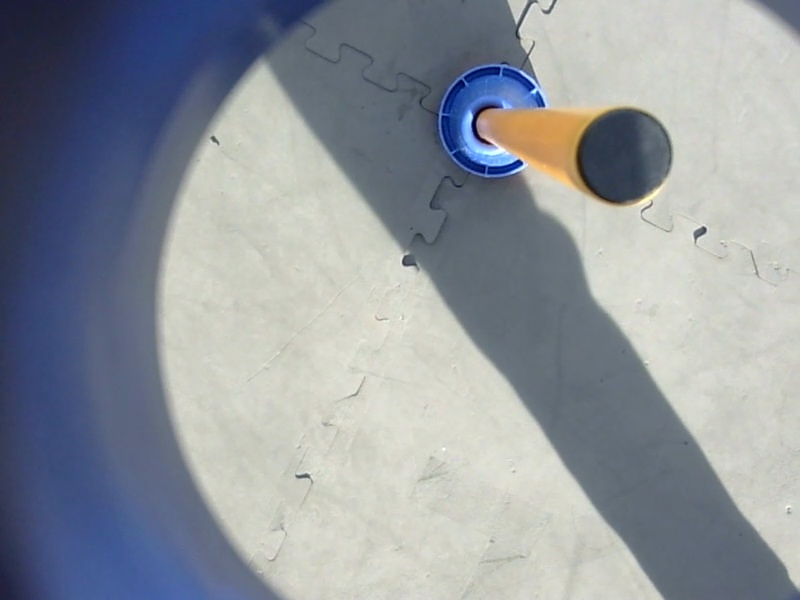tip: (571, 103, 679, 212)
